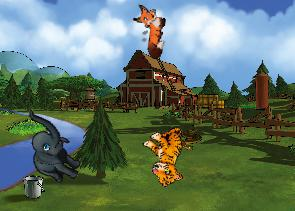elephant: (8, 109, 94, 188)
fox: (128, 3, 169, 59)
tiger: (136, 121, 200, 189)
